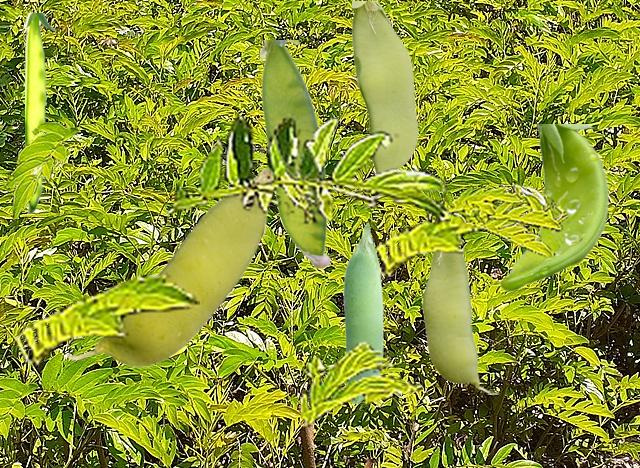pea: (66, 167, 270, 366), (497, 124, 607, 290), (260, 40, 330, 267), (352, 1, 417, 172), (422, 253, 497, 394), (343, 222, 382, 402), (25, 13, 55, 212)
